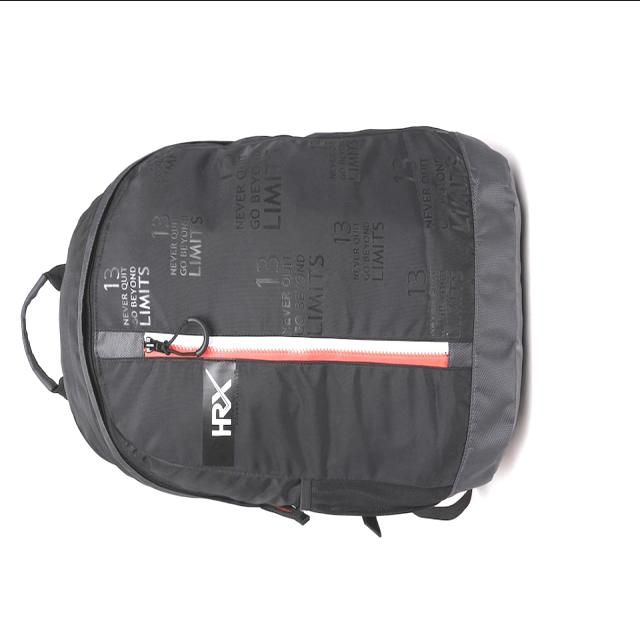backpack: (21, 125, 525, 537)
